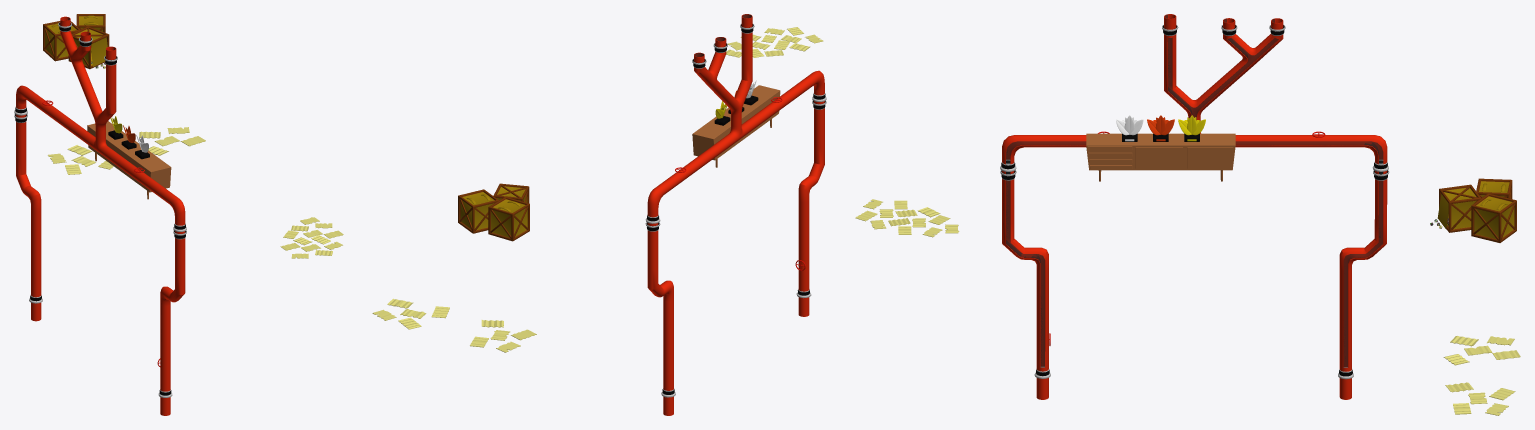
Rendered from Decoração Sala 3.fbx.
The picture shows the model from 3 angles, left to right: view 1: azimuth 30°, elevation 25°; view 2: azimuth 150°, elevation 25°; view 3: azimuth 270°, elevation 25°; orthographic projection. The views are drawn at different scales.
Visible parts, largest first — view 1: Tee Joint.001, MesaDecoração, PilhadePapel2.004, Caixote.003, Caixote.002, Circle.063, PilhadePapel.004, PilhadePapel.003, Caixote.001; view 2: Tee Joint.001, MesaDecoração, Caixote.002, Caixote.001, PilhadePapel2.004, Circle.063, PilhadePapel.004, PilhadePapel.003, Caixote.003; view 3: Tee Joint.001, MesaDecoração, Tee Joint.002, Caixote.001, PilhadePapel2.004, Caixote.003, Circle.063, PilhadePapel.003, PilhadePapel.004, Caixote.002.
Part boxes in pixels (x1=…): Tee Joint.001: x1=16, y1=16, x2=185, y2=415; MesaDecoração: x1=87, y1=121, x2=171, y2=199; PilhadePapel2.004: x1=280, y1=217, x2=343, y2=258; Caixote.003: x1=68, y1=26, x2=109, y2=69; Caixote.002: x1=43, y1=21, x2=80, y2=61; Circle.063: x1=14, y1=22, x2=186, y2=397; PilhadePapel.004: x1=139, y1=127, x2=205, y2=155; PilhadePapel.003: x1=48, y1=145, x2=113, y2=174; Caixote.001: x1=76, y1=14, x2=105, y2=32; Tee Joint.001: x1=647, y1=14, x2=824, y2=415; MesaDecoração: x1=692, y1=85, x2=780, y2=167; Caixote.002: x1=488, y1=197, x2=529, y2=241; Caixote.001: x1=458, y1=189, x2=498, y2=233; PilhadePapel2.004: x1=726, y1=27, x2=823, y2=57; Circle.063: x1=645, y1=23, x2=826, y2=397; PilhadePapel.004: x1=372, y1=298, x2=449, y2=329; PilhadePapel.003: x1=470, y1=320, x2=536, y2=352; Caixote.003: x1=493, y1=183, x2=529, y2=203; Tee Joint.001: x1=1002, y1=14, x2=1387, y2=399; MesaDecoração: x1=1086, y1=133, x2=1235, y2=181; Tee Joint.002: x1=1006, y1=14, x2=1383, y2=367; Caixote.001: x1=1471, y1=193, x2=1516, y2=242; PilhadePapel2.004: x1=855, y1=199, x2=959, y2=237; Caixote.003: x1=1437, y1=184, x2=1480, y2=232; Circle.063: x1=1000, y1=24, x2=1389, y2=379; PilhadePapel.003: x1=1443, y1=336, x2=1520, y2=365; PilhadePapel.004: x1=1445, y1=382, x2=1515, y2=415; Caixote.002: x1=1476, y1=178, x2=1512, y2=198.
Bounding box in the file's own units: 5360 × 7428 × 11762.
